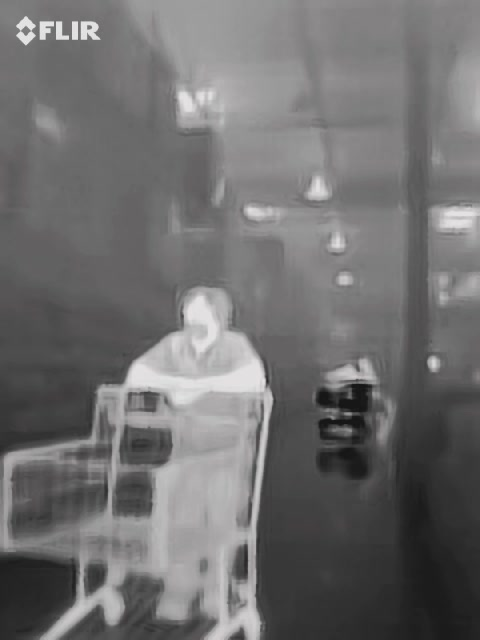head: (179, 282, 232, 348)
